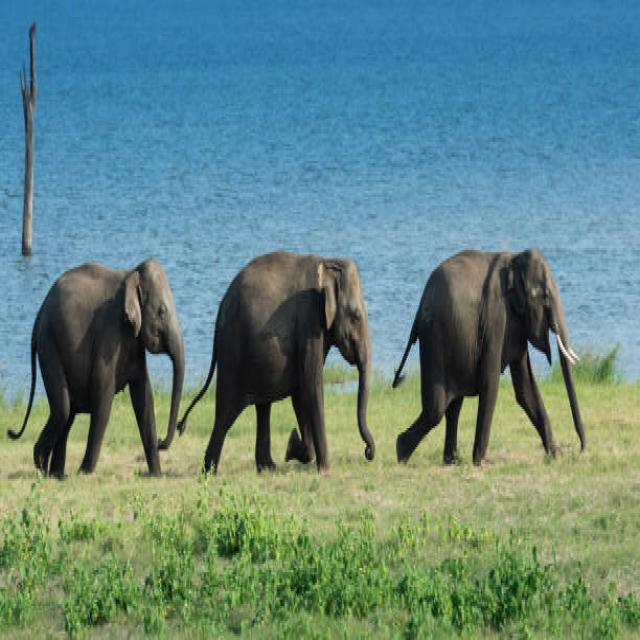Elephant: (398, 239, 592, 471), (11, 248, 182, 486), (211, 244, 376, 476)
